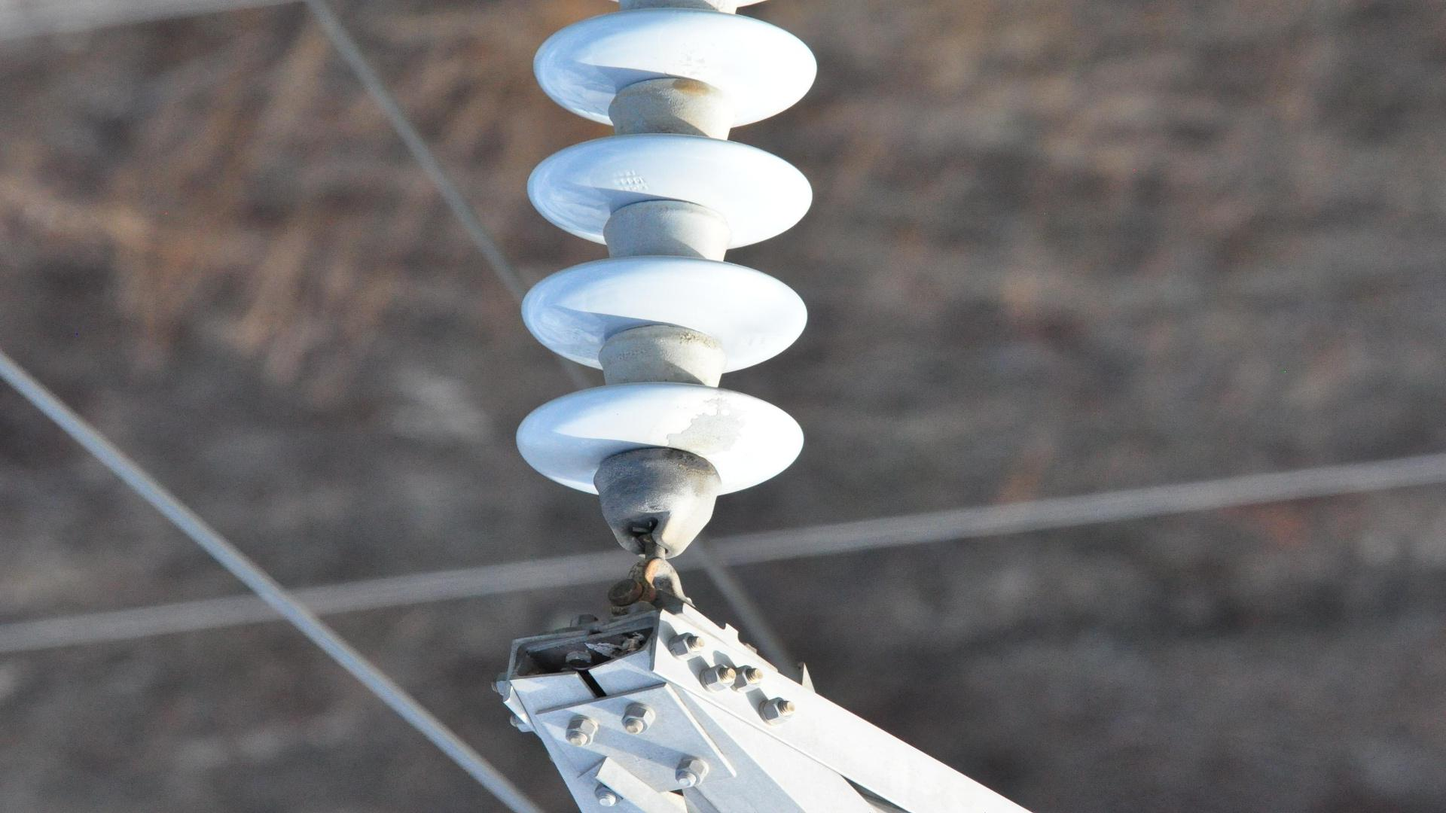insulator: (506, 1, 823, 505)
insulator_flashover: (664, 394, 800, 471)
